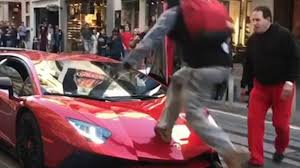Lamborghini: (1, 49, 123, 165)
